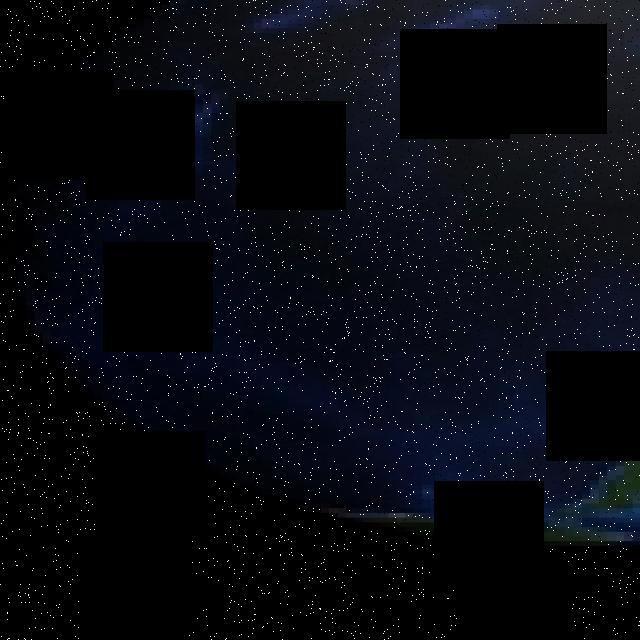Earth: (26, 0, 640, 555)
